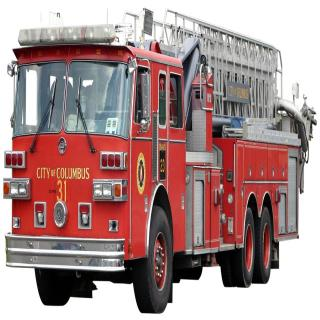Fire_truck: (3, 8, 316, 314)
